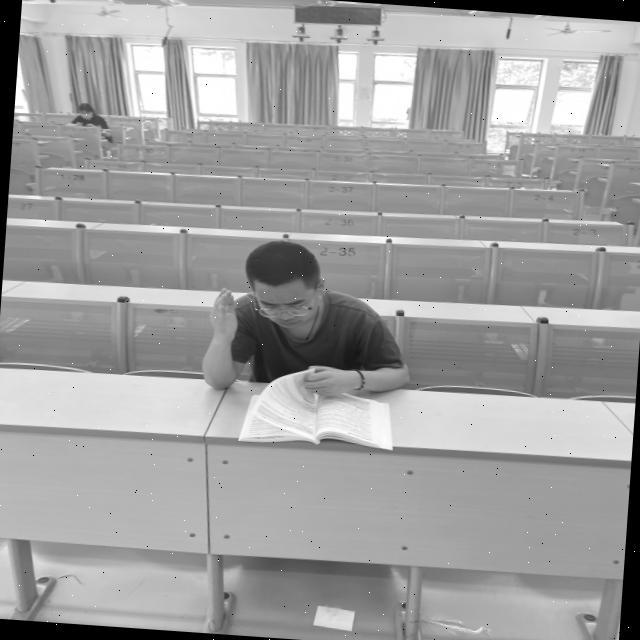study: (197, 232, 420, 449)
